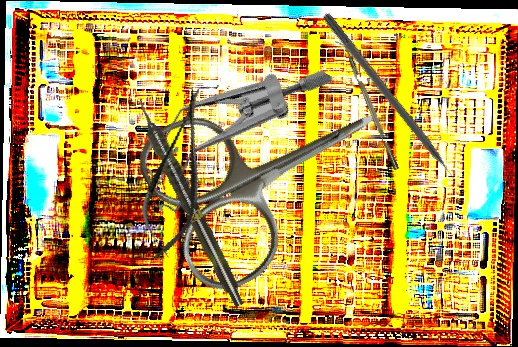Chopper: (334, 36, 400, 174)
Handpiece: (130, 95, 249, 310)
Iris Scissors: (127, 39, 417, 303)
Micro Scissor: (130, 81, 225, 265)
Pusher: (319, 11, 469, 197)
Speculum: (126, 16, 336, 254)
